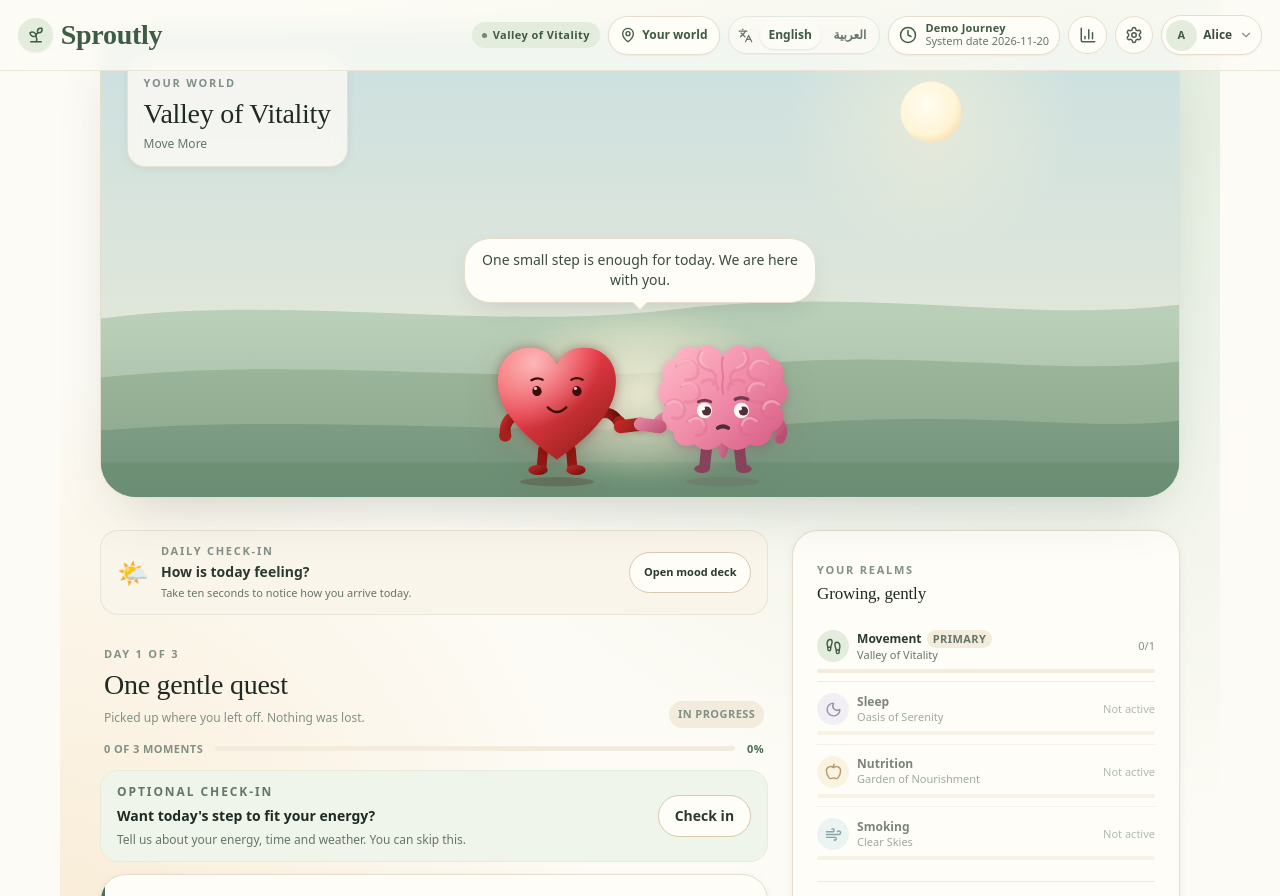
Test: wellness home day selection › lets the completion sound be turned off
Later steps or results of the test are not shown.
Click the button named "Open settings" at (1134, 35), box [1115,16,1153,54]
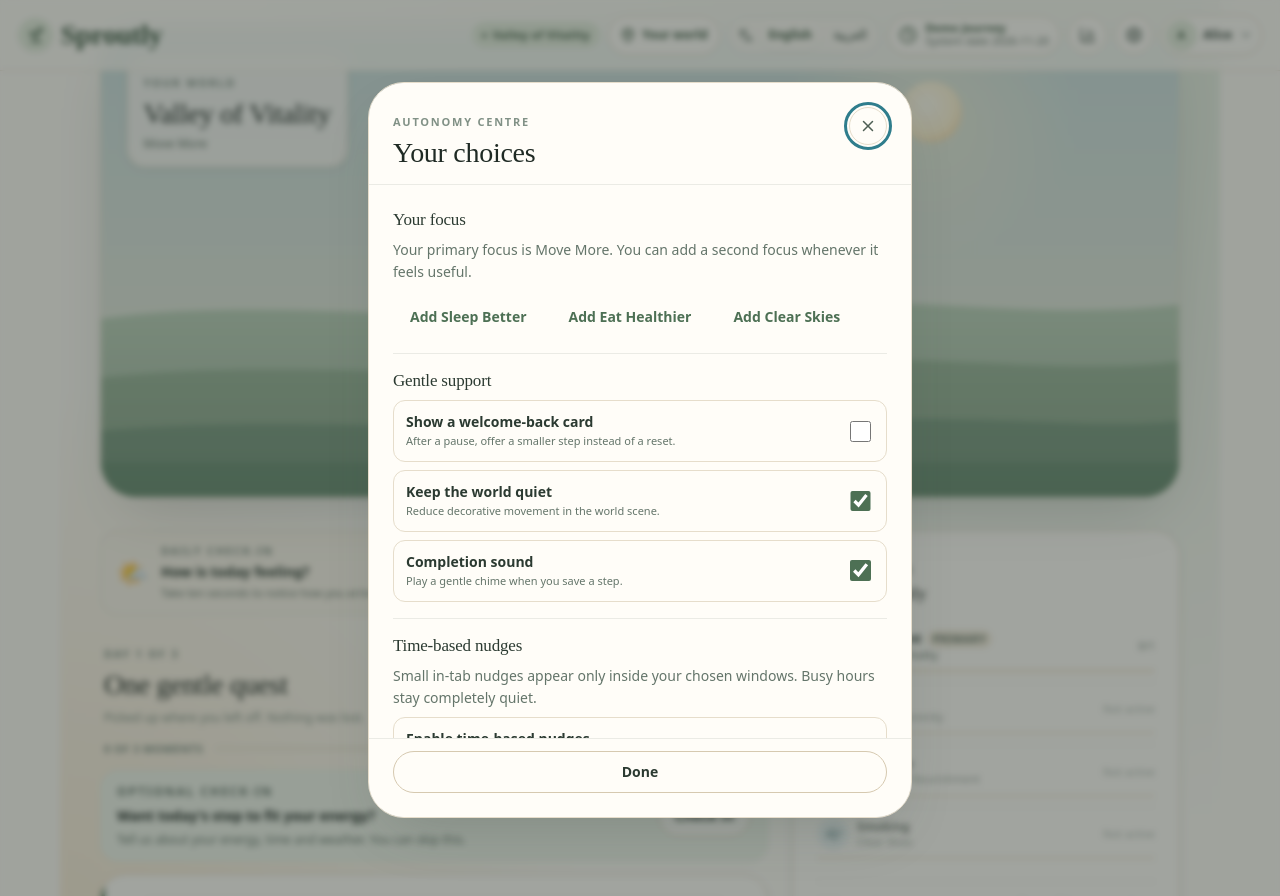
Now the checkbox labelled "Completion sound Play a gentle chime when you save a step." is checked, box [850,560,871,581]
